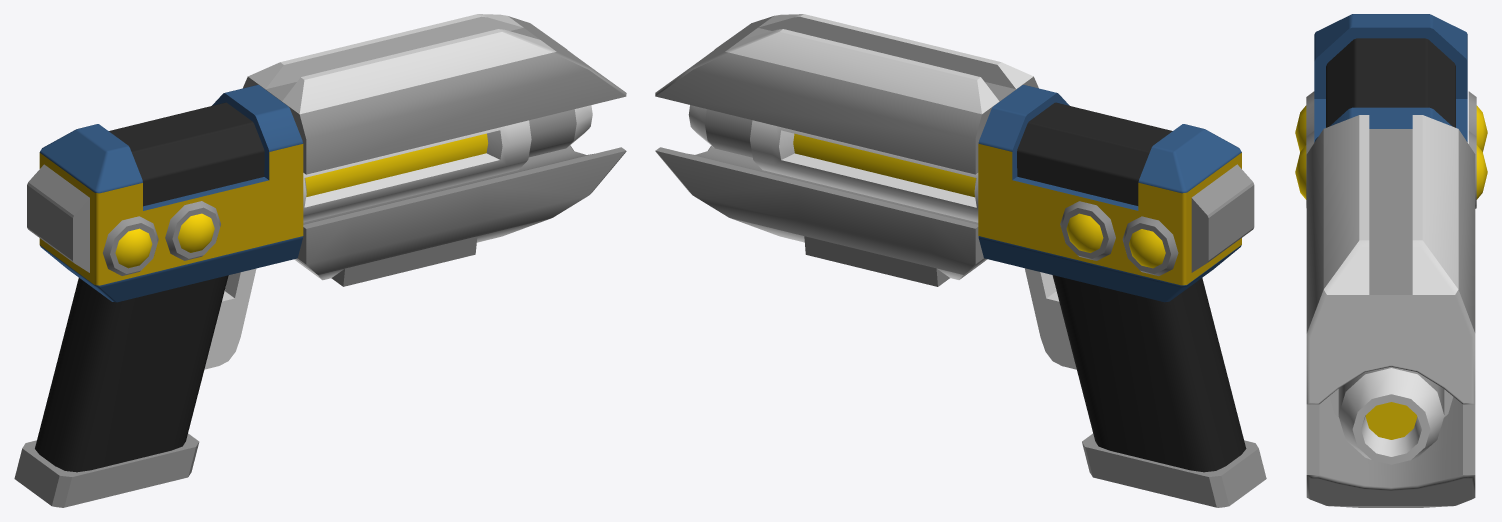
File: PlasmaHandgun.FBX
3 renders of one model, left to right at view 1: azimuth 30°, elevation 25°; view 2: azimuth 150°, elevation 25°; view 3: azimuth 270°, elevation 25°, orthographic. The views are drawn at different scales.
Parts seen in each view (by area): view 1: PlasmaHandgun; view 2: PlasmaHandgun; view 3: PlasmaHandgun.
Part boxes in pixels (x1,y1,x2,y2): PlasmaHandgun: [14, 14, 626, 507]; PlasmaHandgun: [655, 14, 1266, 507]; PlasmaHandgun: [1295, 14, 1487, 507].
Bounding box in the file's own units: 169 × 104 × 38.55.
